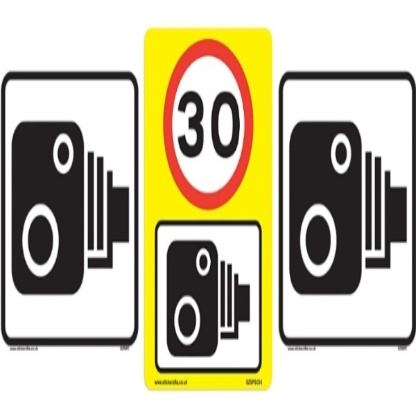limit2: (157, 36, 257, 211)
